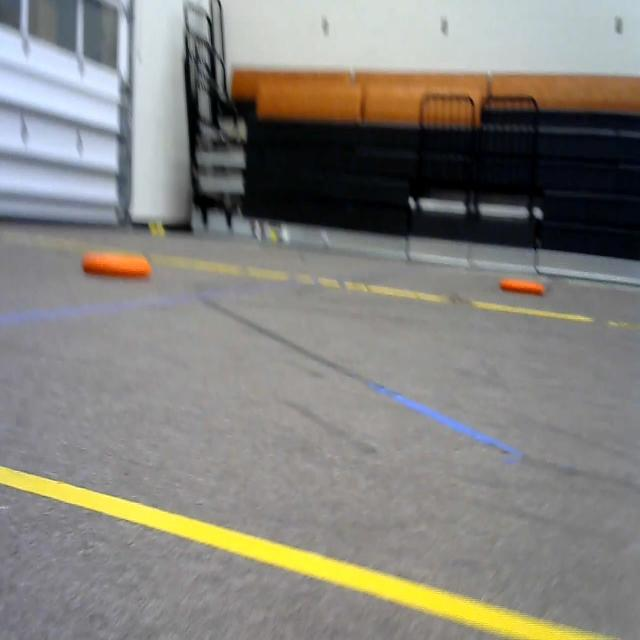note: (80, 244, 151, 284), (499, 278, 549, 301)
